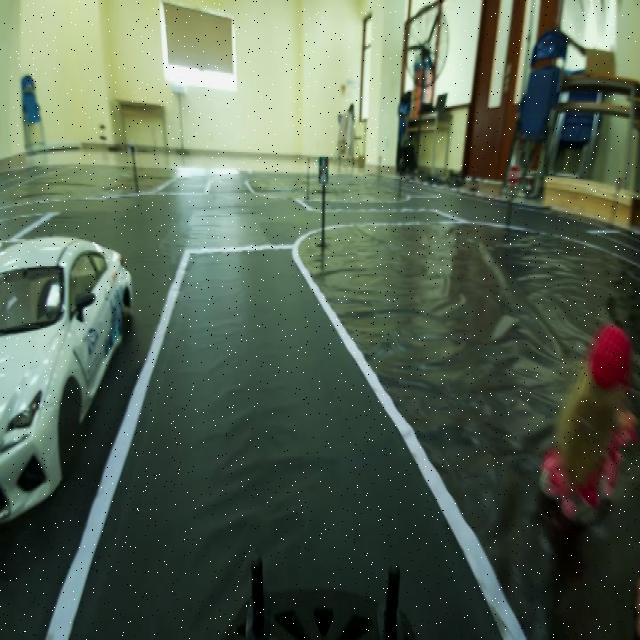car: (0, 136, 136, 534)
